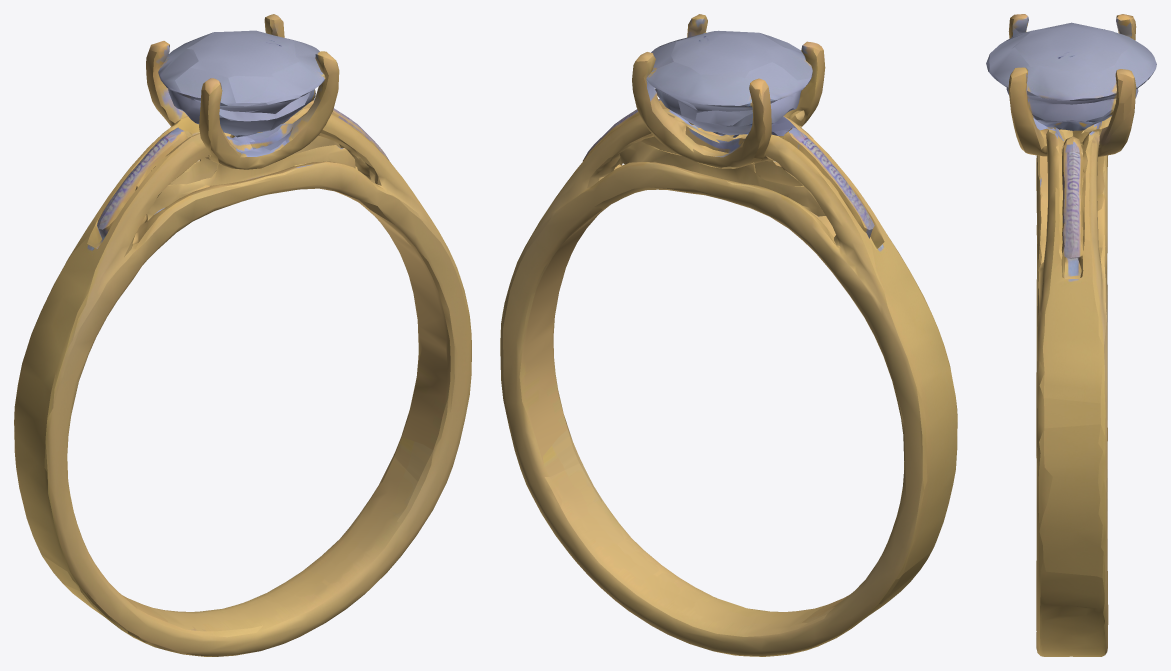
File: rings_2.glb
3 renders of one model, left to right at view 1: azimuth 30°, elevation 25°; view 2: azimuth 150°, elevation 25°; view 3: azimuth 270°, elevation 25°, orthographic.
Parts seen in each view (by area): view 1: textured_mesh; view 2: textured_mesh; view 3: textured_mesh.
Part boxes in pixels (left/top/right/bottom): textured_mesh: left=14, top=14, right=471, bottom=656; textured_mesh: left=500, top=14, right=957, bottom=656; textured_mesh: left=986, top=14, right=1156, bottom=656.
Size of the model in its own units: 0.754 by 0.9999 by 0.2603.
1 material, 1 textured.
